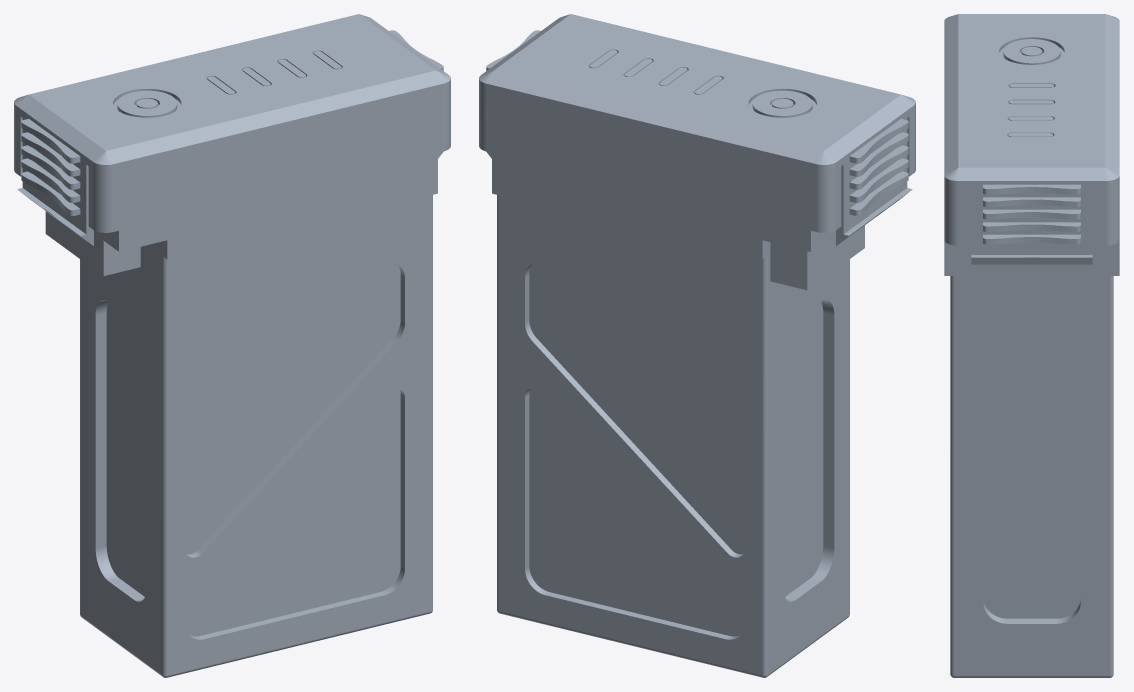
Rendered from neutral-web.glb.
3 views of the same model, side by side, from view 1: azimuth 30°, elevation 25°; view 2: azimuth 150°, elevation 25°; view 3: azimuth 270°, elevation 25° (orthographic). The views are drawn at different scales.
Parts seen in each view (by area): view 1: TB47d; view 2: TB47d; view 3: TB47d.
Boxes of the visible parts, x1,y1,x2,y2 form: TB47d: (14, 14, 450, 677); TB47d: (479, 14, 915, 677); TB47d: (944, 14, 1119, 677).
Bounding box in the file's own units: 0.101 × 0.139 × 0.043.
